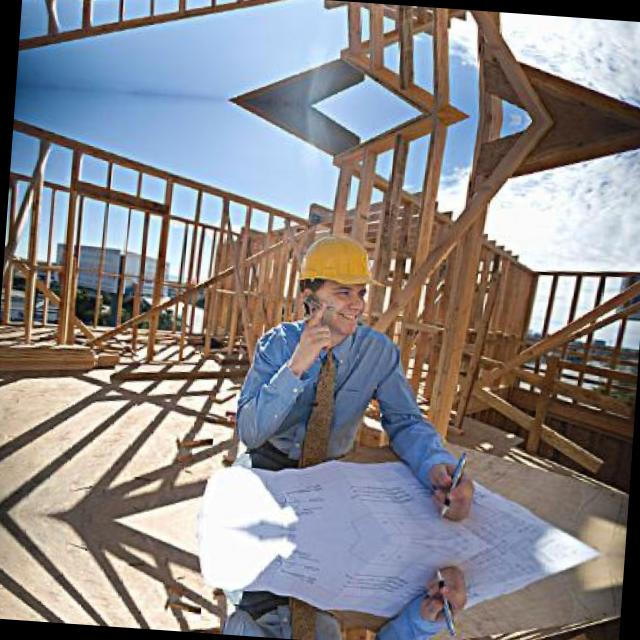helmet: (289, 221, 382, 332)
